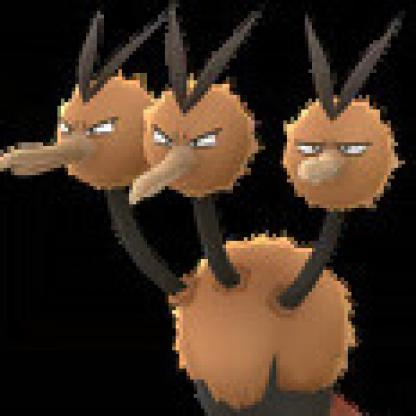Dodrio: (1, 1, 414, 414)
